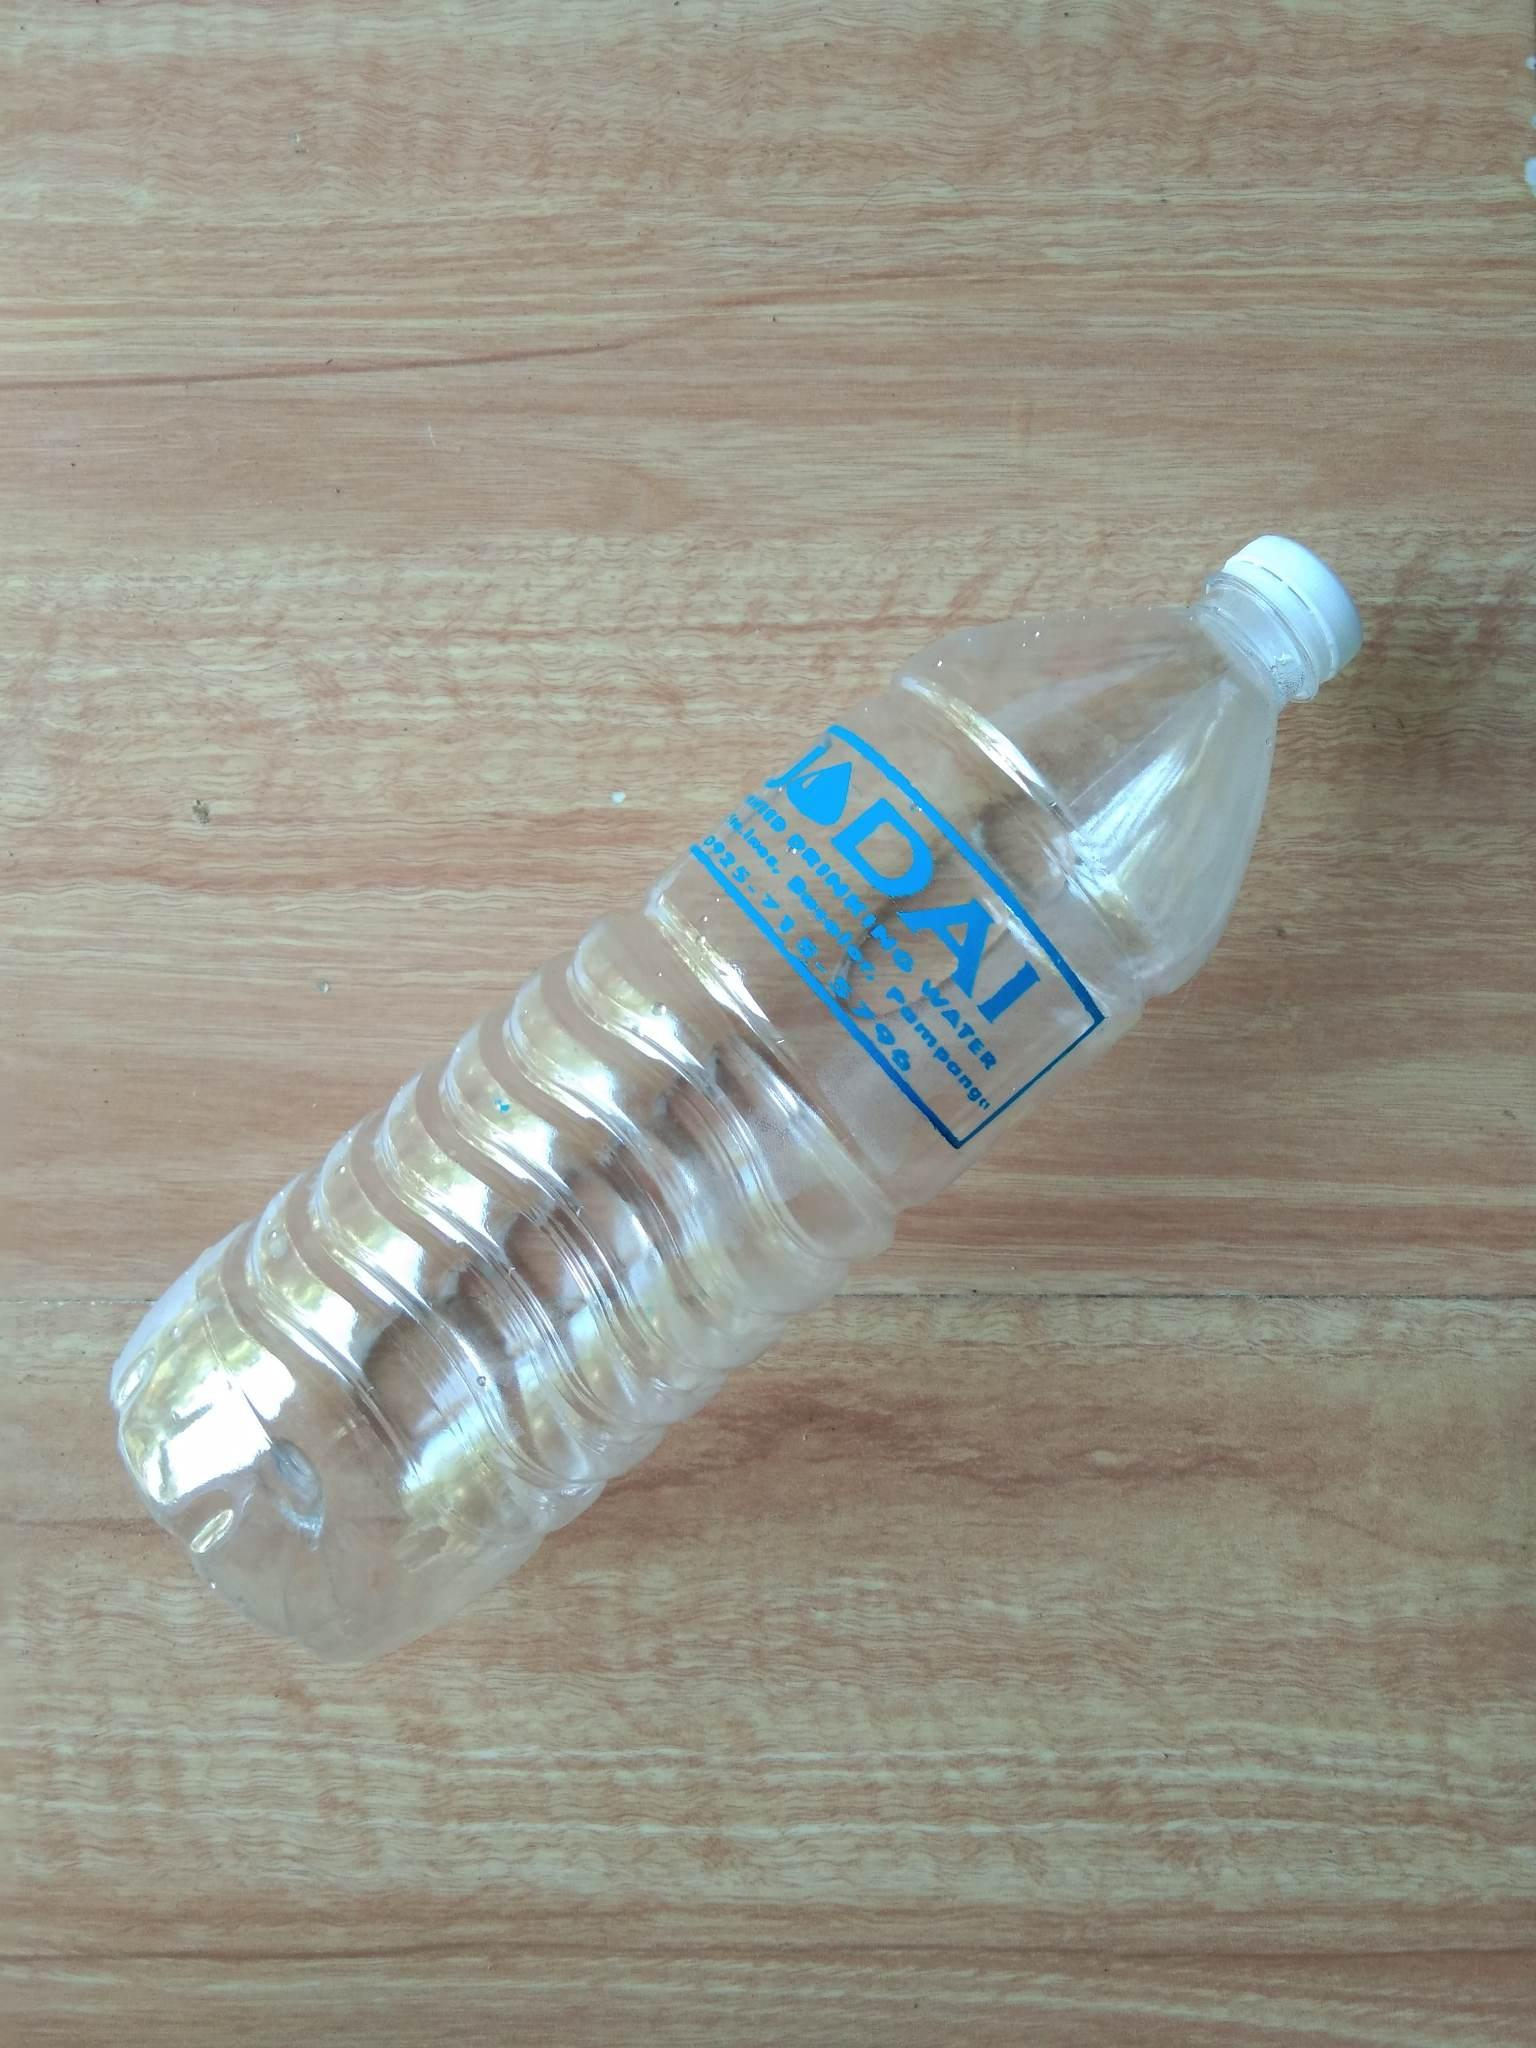plastic: (24, 469, 1509, 1692)
